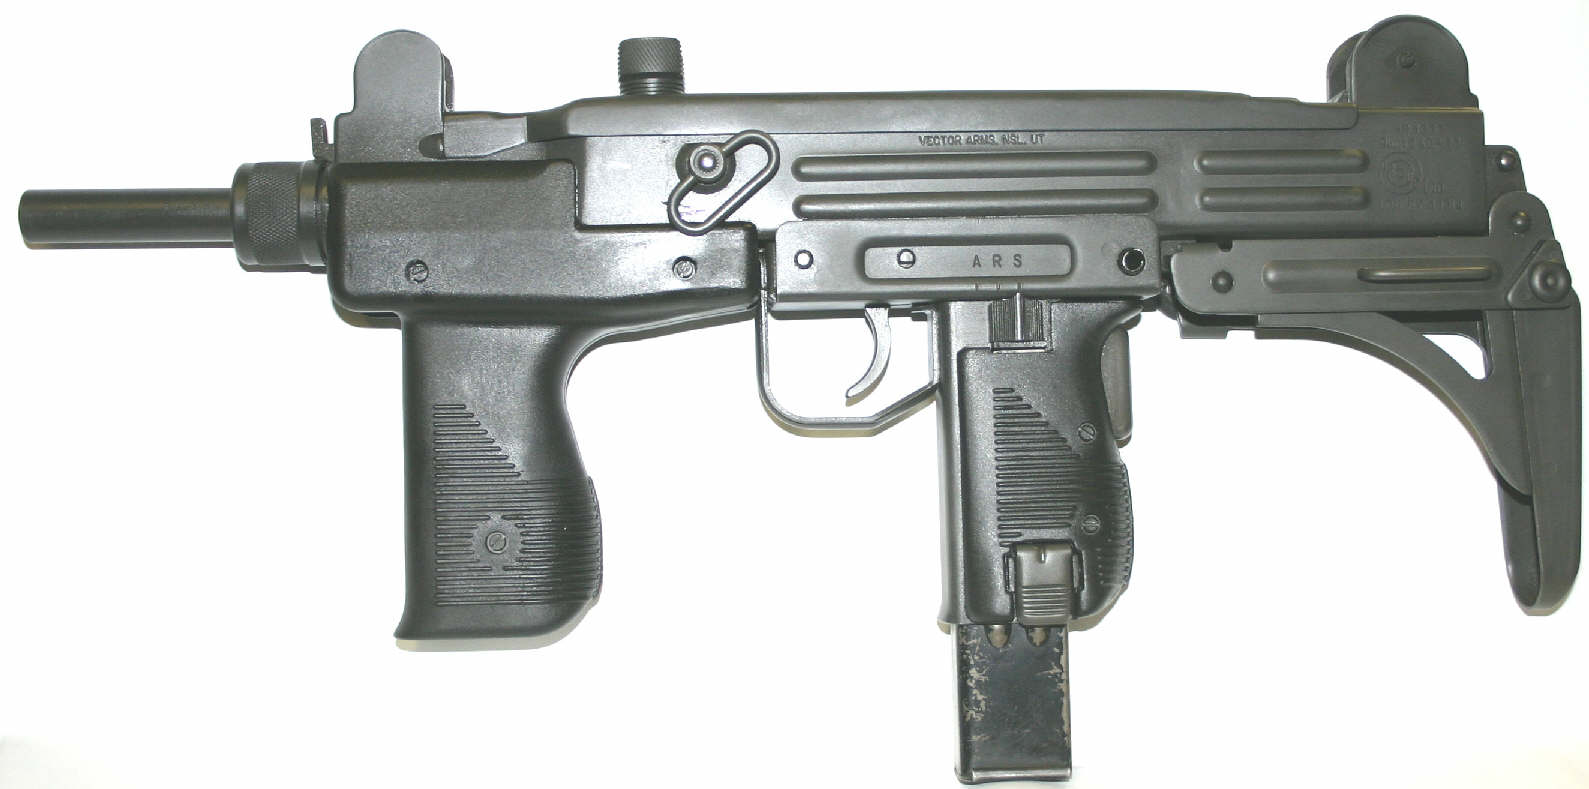rifle: (22, 24, 1579, 777)
